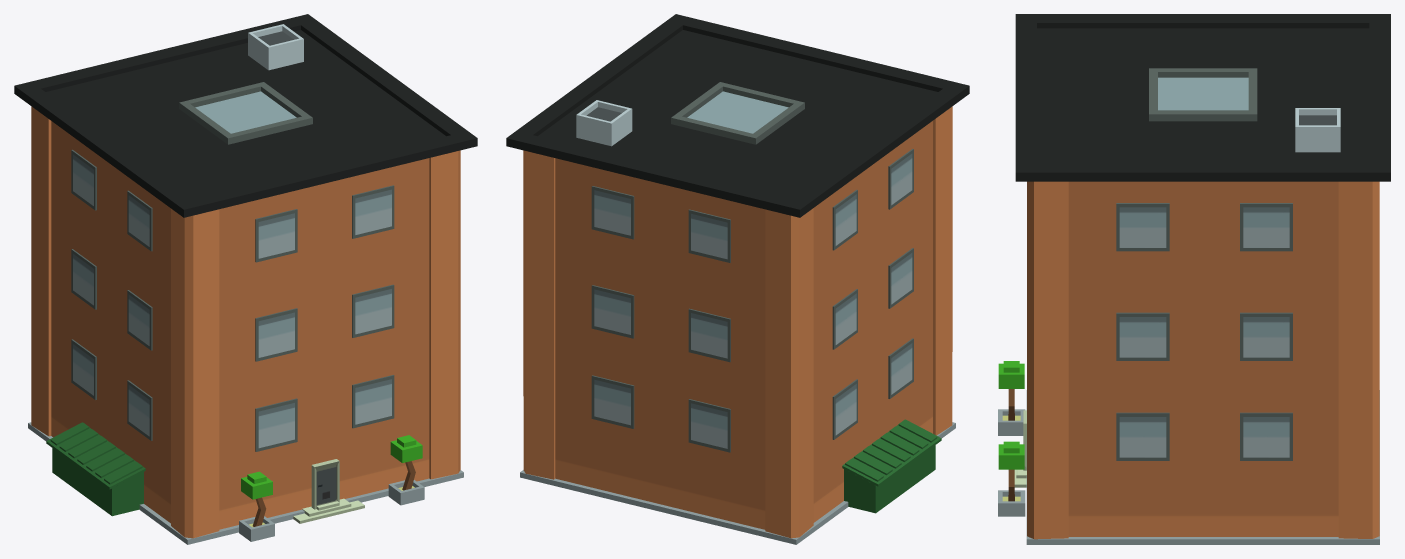
Rendered from Basic Low.fbx.
3 renders of one model, left to right at view 1: azimuth 30°, elevation 25°; view 2: azimuth 150°, elevation 25°; view 3: azimuth 270°, elevation 25°, orthographic. The views are drawn at different scales.
Parts seen in each view (by area): view 1: Basic Low; view 2: Basic Low; view 3: Basic Low.
Boxes of the visible parts, x1,y1,x2,y2 form: Basic Low: (14, 14, 477, 544); Basic Low: (506, 14, 969, 544); Basic Low: (998, 14, 1390, 544).
Size of the model in its own units: 6.15 by 6.66 by 5.97.
